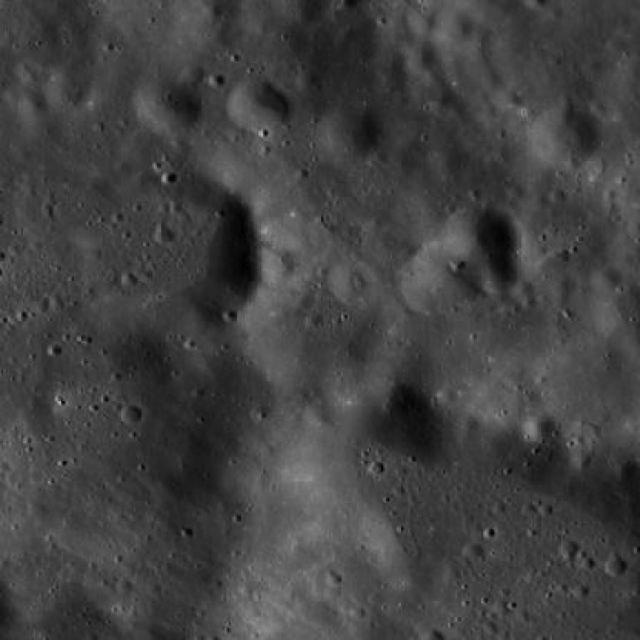crater: (0, 318, 282, 624), (82, 170, 264, 338), (294, 384, 454, 533), (242, 263, 382, 392), (510, 188, 615, 284), (543, 342, 640, 435), (12, 159, 103, 244), (0, 0, 97, 66), (400, 243, 478, 314), (444, 200, 518, 268), (530, 104, 598, 167), (134, 71, 202, 134), (320, 102, 382, 160), (229, 76, 289, 132), (384, 546, 442, 600), (44, 70, 90, 112), (479, 255, 521, 294), (328, 266, 368, 303), (437, 8, 475, 44), (405, 38, 443, 74), (278, 0, 326, 26), (432, 144, 468, 178), (262, 247, 298, 281), (376, 63, 409, 94), (524, 412, 558, 442), (325, 0, 363, 25), (428, 88, 457, 116), (591, 264, 620, 292), (20, 92, 49, 120), (0, 44, 20, 80), (416, 12, 442, 36), (304, 402, 330, 426), (498, 88, 524, 110), (478, 70, 504, 92), (553, 276, 578, 298), (510, 279, 533, 301), (296, 70, 319, 92), (182, 63, 204, 85), (122, 404, 144, 426), (443, 56, 466, 76), (392, 144, 414, 164), (458, 414, 480, 434), (605, 556, 627, 576), (558, 536, 578, 556), (572, 450, 592, 470), (466, 539, 486, 558), (470, 43, 490, 62), (155, 227, 174, 244), (617, 460, 634, 478), (585, 58, 604, 74), (305, 312, 324, 328), (122, 271, 138, 287)
